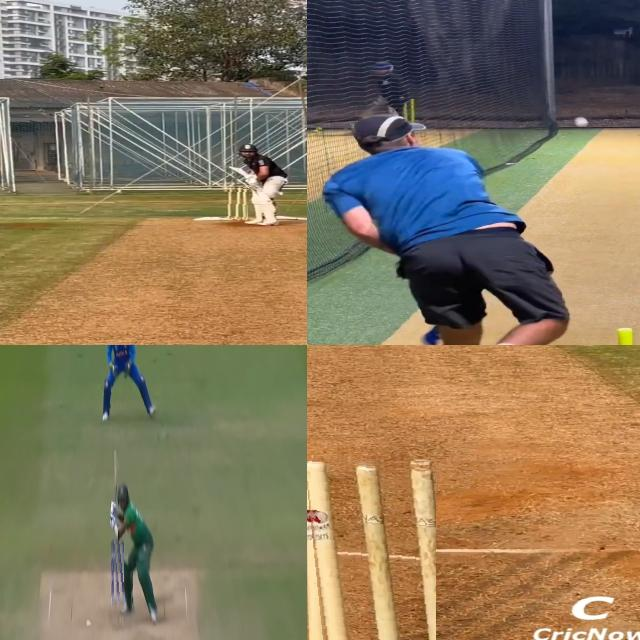Cricket ball: (574, 116, 590, 129), (86, 620, 92, 632)
Stumps: (307, 456, 436, 640), (111, 538, 124, 610), (226, 186, 249, 220)
